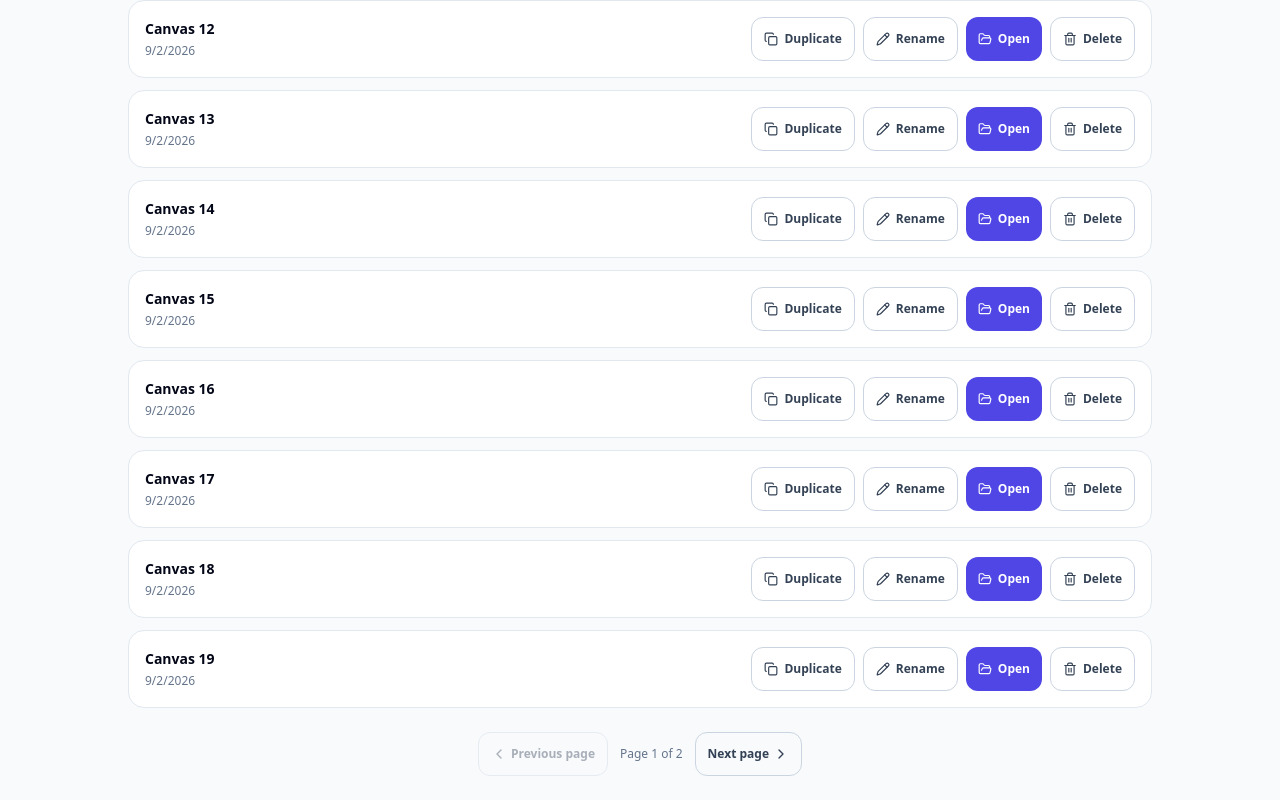
Test: CreatorCanvasLibraryPageContent › confirms delete, removes the row, and reloads the previous page when the page becomes invalid
(page scrolled)
Click the button "Next page": (748, 754) left=695, top=732, right=802, bottom=776
(page scrolled)
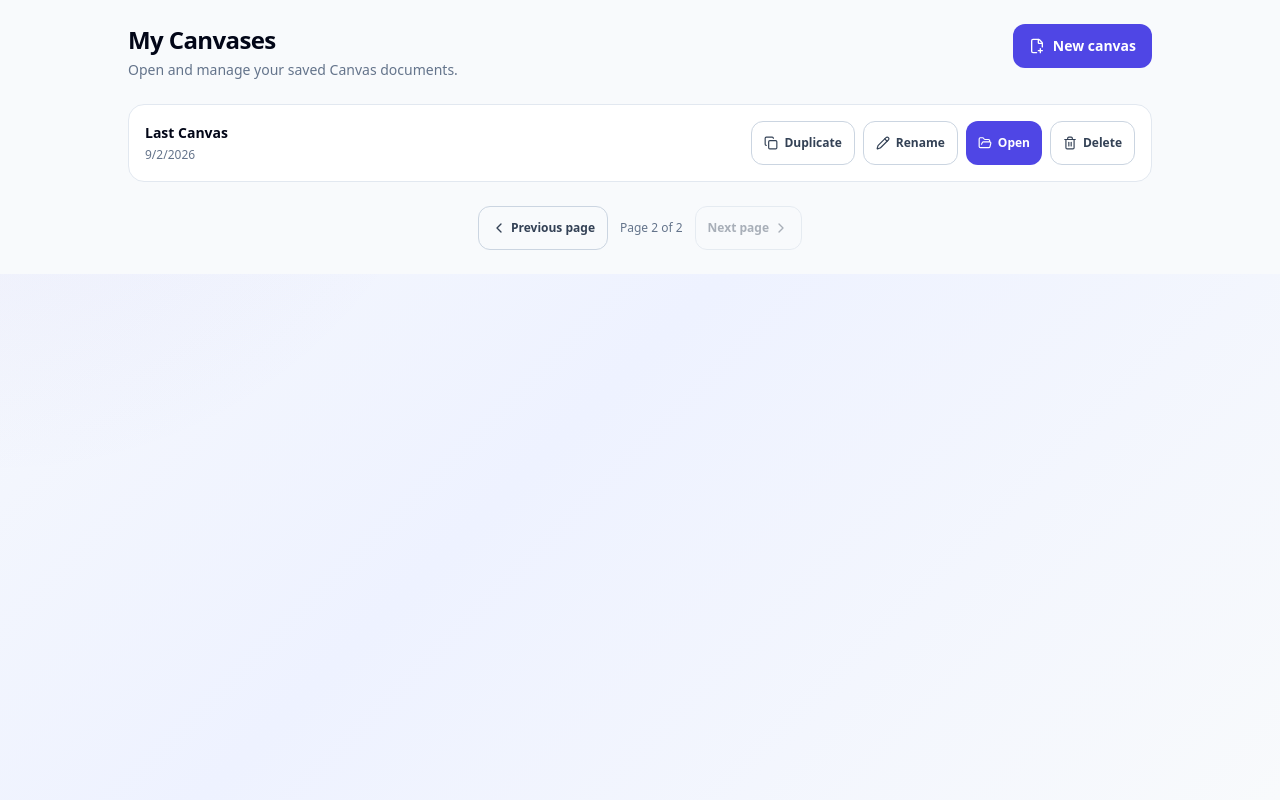
Result: the text "Last Canvas" is shown at left=145, top=123, right=228, bottom=142
Click the button "Delete": (1092, 143) left=1050, top=121, right=1135, bottom=165
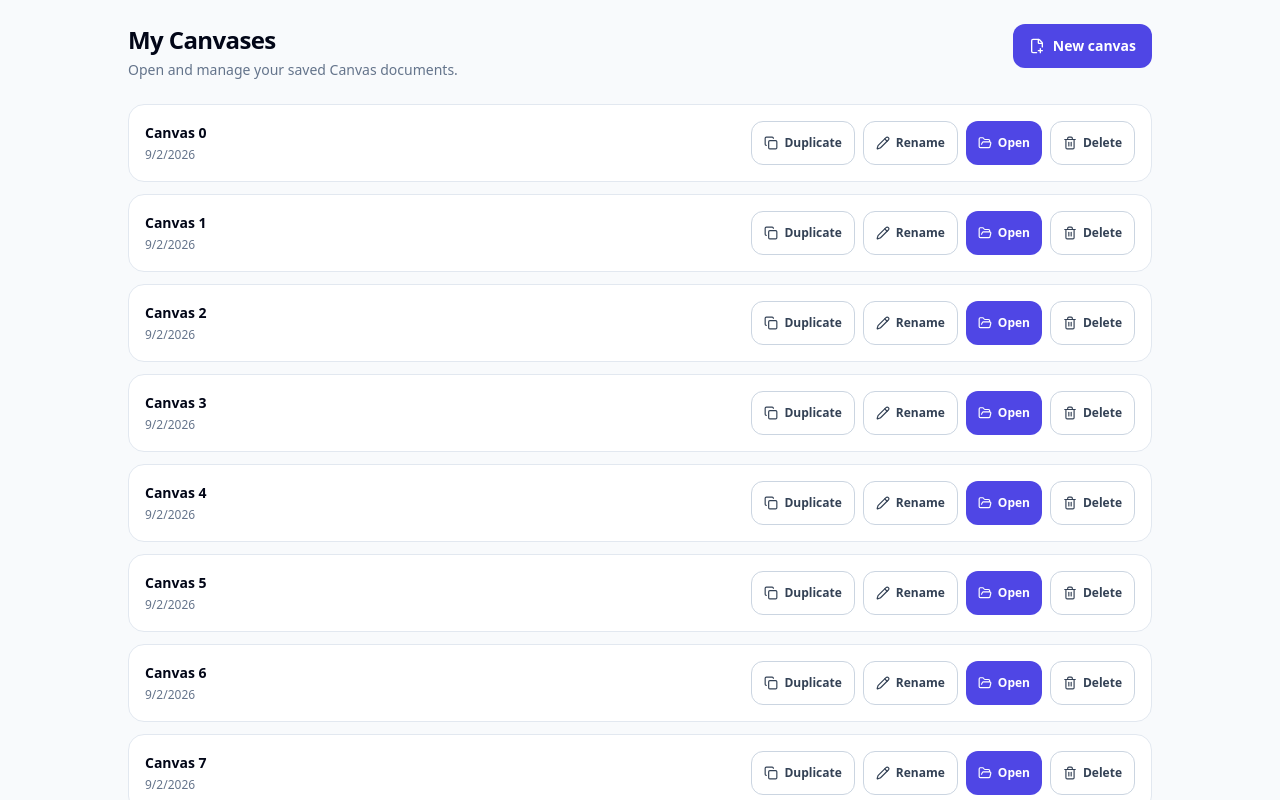
Result: the list item "Canvas 0 9/2/2026 Duplicate Rename Open Delete" is shown at left=128, top=104, right=1152, bottom=182
Result: the text "Last Canvas" is gone
